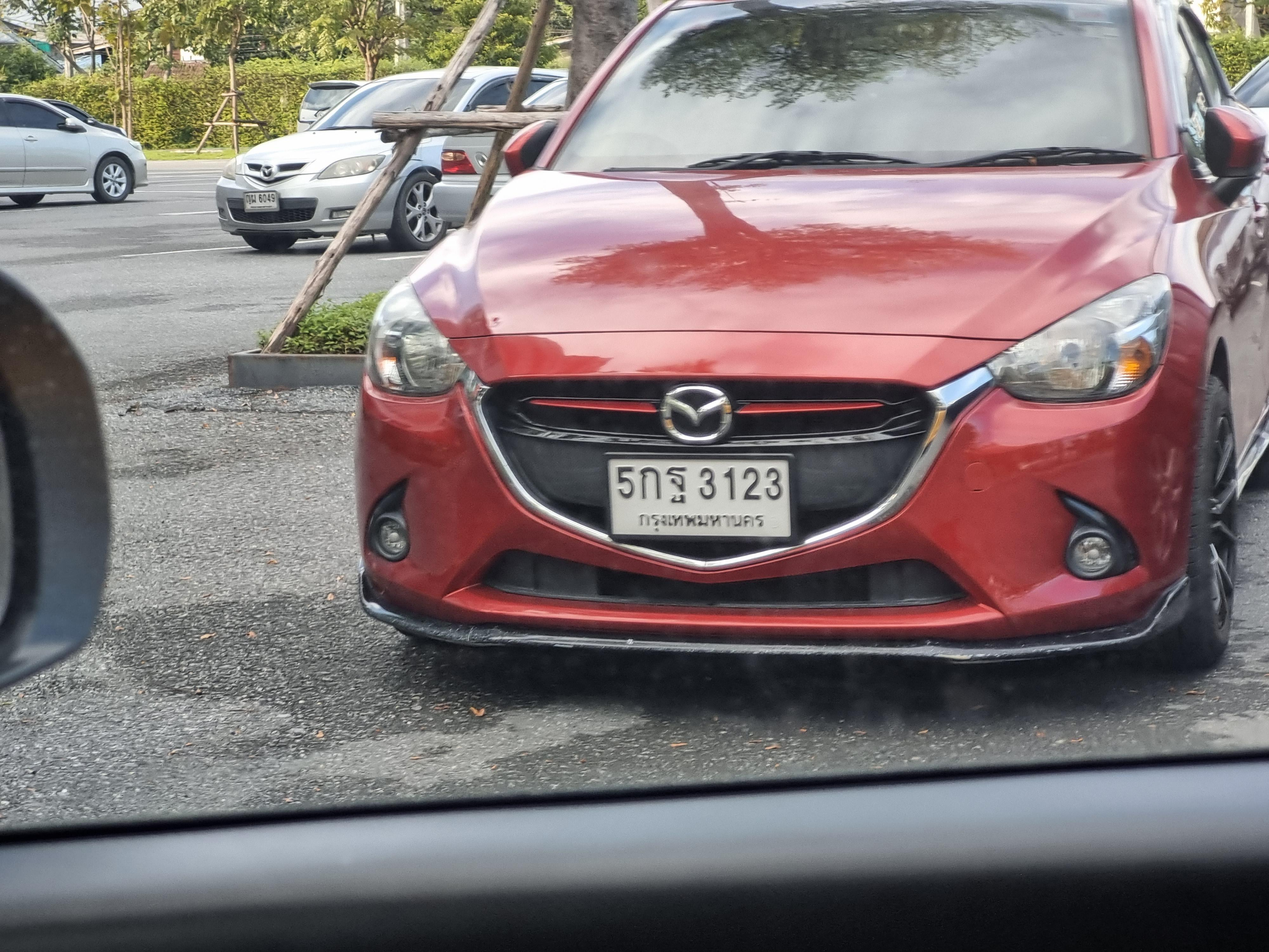license-plate: (603, 446, 803, 551), (241, 188, 282, 213)
